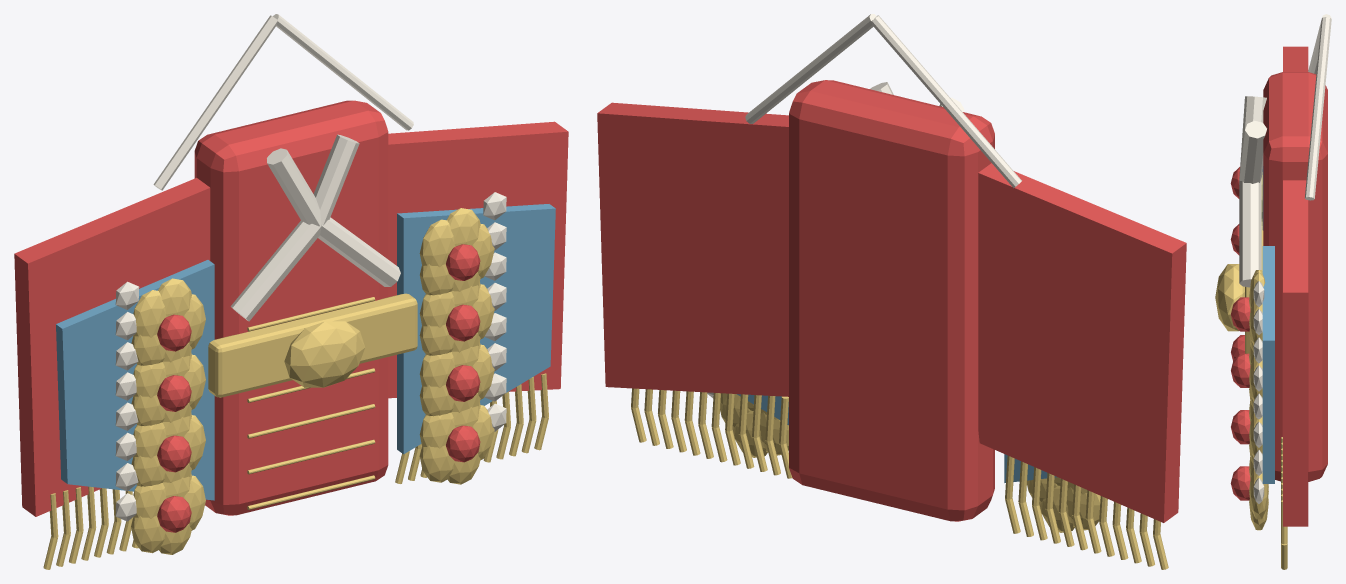
File: kabuki_hikinuki_costume.glb
3 renders of one model, left to right at view 1: azimuth 30°, elevation 25°; view 2: azimuth 150°, elevation 25°; view 3: azimuth 270°, elevation 25°, orthographic. The views are drawn at different scales.
Parts seen in each view (by area): view 1: Hikinuki double layered kabuki costume long body, Hikinuki double layered kabuki costume embroidered chrysanth (×34), Hikinuki double layered kabuki costume left ample sleeve, Hikinuki double layered kabuki costume right ample sleeve, Hidden blue reveal robe panel, Hidden blue reveal robe panel.001, Hikinuki double layered kabuki costume decorative sash, Hikinuki double layered kabuki costume crossed ivory collars (×4), Hikinuki double layered kabuki costume central ornate knot, Pull-release costume rigging_00, Pull-release costume rigging_01; view 2: Hikinuki double layered kabuki costume long body, Hikinuki double layered kabuki costume left ample sleeve, Hikinuki double layered kabuki costume right ample sleeve, Pull-release costume rigging_00, Pull-release costume rigging_01; view 3: Hikinuki double layered kabuki costume long body, Hikinuki double layered kabuki costume right ample sleeve, Hikinuki double layered kabuki costume embroidered chrysanth (×13), Hikinuki double layered kabuki costume crossed ivory collars (×3), Hidden blue reveal robe panel.001, Pull-release costume rigging_01, Hikinuki double layered kabuki costume central ornate knot, Hikinuki double layered kabuki costume left ample sleeve, Pull-release costume rigging_00, Hikinuki double layered kabuki costume decorative sash, Hikinuki decorative mirror motif.008, Hikinuki decorative mirror motif.015 (+8 smaller).
Boxes of the visible parts, <box> form: Hikinuki double layered kabuki costume long body: <box>194,100,388,515</box>; Hikinuki double layered kabuki costume embroidered chrysanth (×34): <box>131,208,494,553</box>; Hikinuki double layered kabuki costume left ample sleeve: <box>14,178,210,516</box>; Hikinuki double layered kabuki costume right ample sleeve: <box>388,121,568,398</box>; Hidden blue reveal robe panel: <box>56,260,214,500</box>; Hidden blue reveal robe panel.001: <box>397,204,555,454</box>; Hikinuki double layered kabuki costume decorative sash: <box>208,293,417,397</box>; Hikinuki double layered kabuki costume crossed ivory collars (×4): <box>230,134,400,321</box>; Hikinuki double layered kabuki costume central ornate knot: <box>284,321,365,387</box>; Pull-release costume rigging_00: <box>153,15,277,190</box>; Pull-release costume rigging_01: <box>273,14,413,130</box>; Hikinuki double layered kabuki costume long body: <box>789,80,994,521</box>; Hikinuki double layered kabuki costume left ample sleeve: <box>978,163,1186,522</box>; Hikinuki double layered kabuki costume right ample sleeve: <box>597,102,788,396</box>; Pull-release costume rigging_00: <box>871,15,1021,188</box>; Pull-release costume rigging_01: <box>745,14,876,123</box>; Hikinuki double layered kabuki costume long body: <box>1263,72,1327,481</box>; Hikinuki double layered kabuki costume right ample sleeve: <box>1283,180,1308,526</box>; Hikinuki double layered kabuki costume embroidered chrysanth (×13): <box>1230,167,1268,530</box>; Hikinuki double layered kabuki costume crossed ivory collars (×3): <box>1239,96,1266,287</box>; Hidden blue reveal robe panel.001: <box>1262,246,1274,483</box>; Pull-release costume rigging_01: <box>1304,17,1331,200</box>; Hikinuki double layered kabuki costume central ornate knot: <box>1215,264,1244,331</box>; Hikinuki double layered kabuki costume left ample sleeve: <box>1283,46,1308,71</box>; Pull-release costume rigging_00: <box>1308,14,1331,73</box>; Hikinuki double layered kabuki costume decorative sash: <box>1245,229,1263,353</box>; Hikinuki decorative mirror motif.008: <box>1253,478,1264,503</box>; Hikinuki decorative mirror motif.015: <box>1253,281,1264,306</box>.
Size of the model in its own units: 1.95 by 1.65 by 0.3908.
